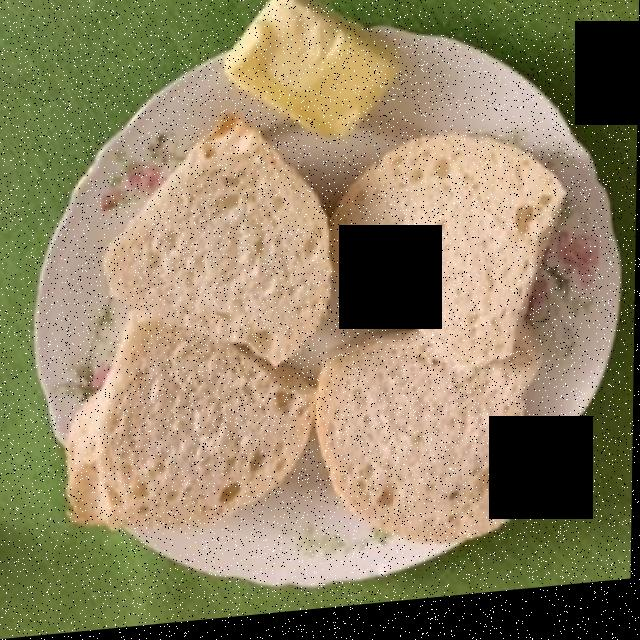bread-white: (78, 134, 543, 559)
butter: (235, 0, 398, 140)
